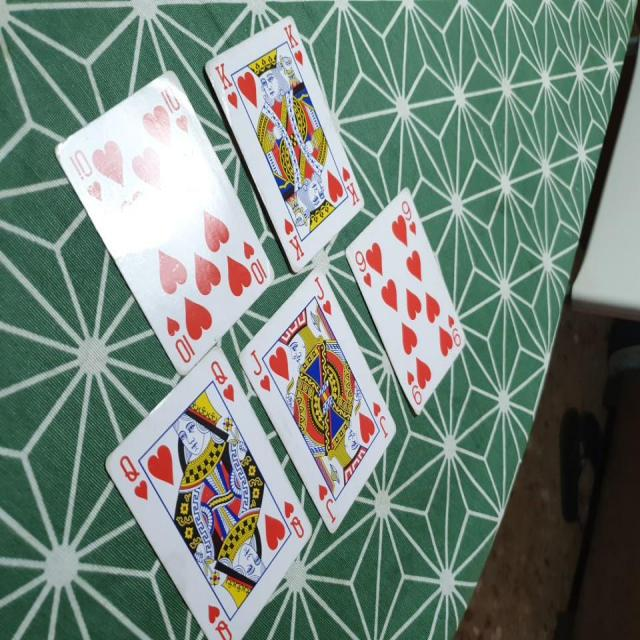10 Hearts: (49, 59, 273, 363)
9 Hearts: (343, 186, 474, 428)
J Hearts: (238, 260, 395, 537)
K Hearts: (200, 17, 367, 274)
Q Hearts: (100, 335, 313, 640)
